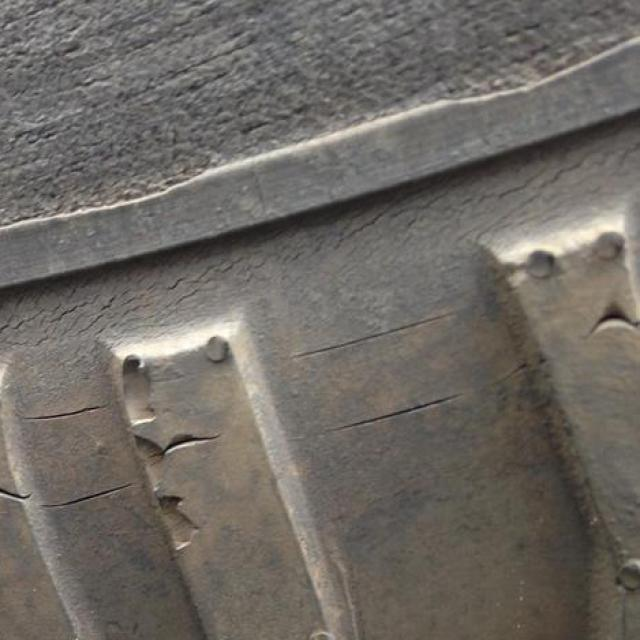Cracks: (0, 1, 640, 366), (0, 389, 229, 558), (325, 384, 469, 441)
